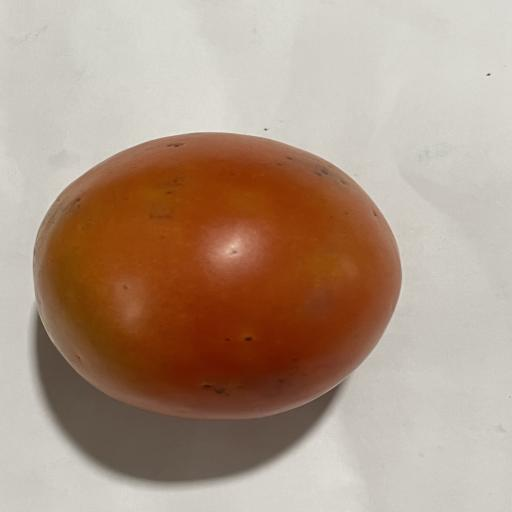unripe: (34, 133, 401, 419)
